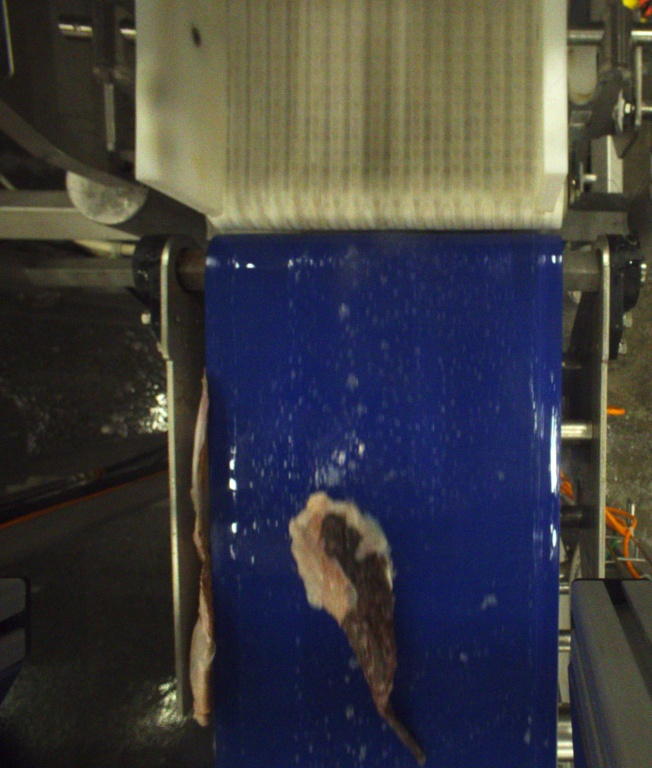ANF: (289, 493, 433, 768)
